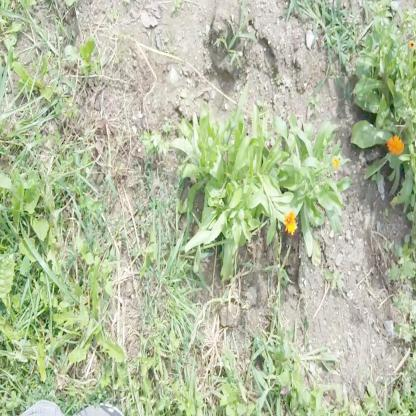marigold: (385, 128, 406, 157)
